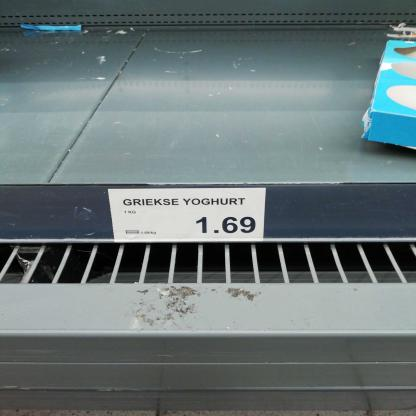prtg: (108, 189, 268, 244)
